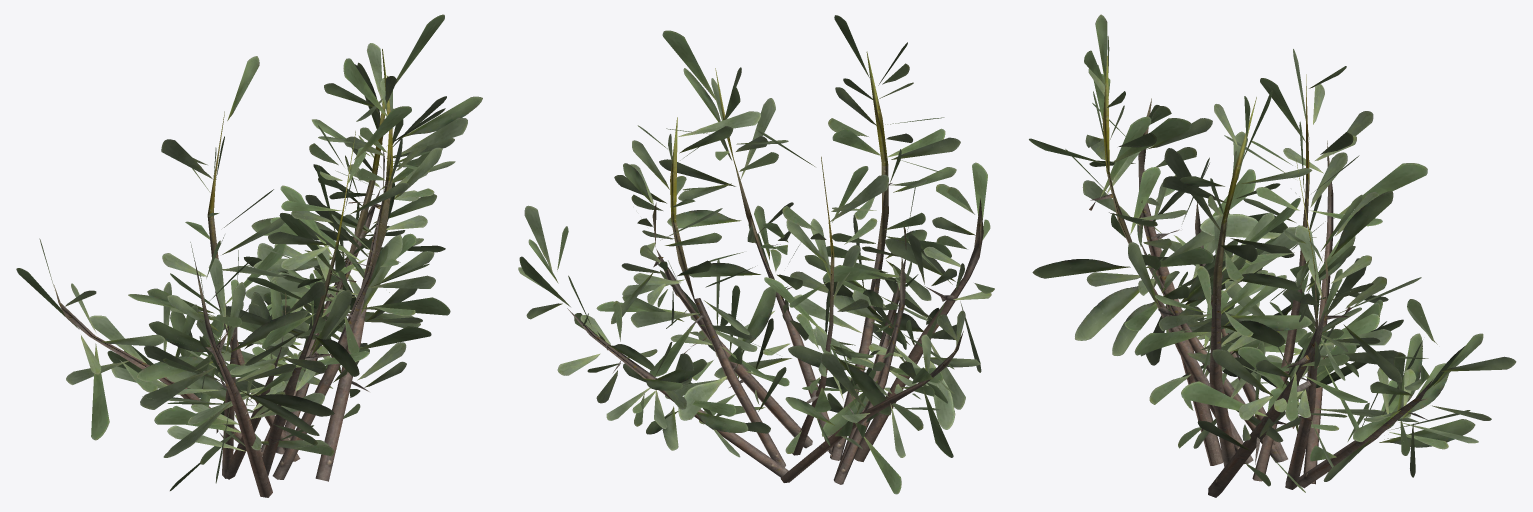
The model's file is coastal-shrub-0-far.glb.
3 renders of one model, left to right at view 1: azimuth 30°, elevation 25°; view 2: azimuth 150°, elevation 25°; view 3: azimuth 270°, elevation 25°, orthographic. The views are drawn at different scales.
Visible parts, largest first — view 1: othonna_cerarioides_g; view 2: othonna_cerarioides_g; view 3: othonna_cerarioides_g.
Boxes of the visible parts, x1,y1,x2,y2 form: othonna_cerarioides_g: [16, 14, 482, 497]; othonna_cerarioides_g: [518, 15, 994, 494]; othonna_cerarioides_g: [1029, 14, 1516, 497].
Size of the model in its own units: 0.9988 by 0.9307 by 0.8755.
Materials: 2 (2 with a texture image).
